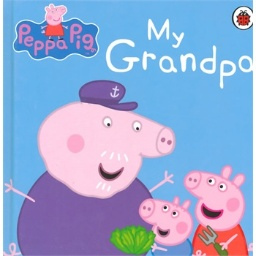Peppa: (183, 164, 249, 256)
